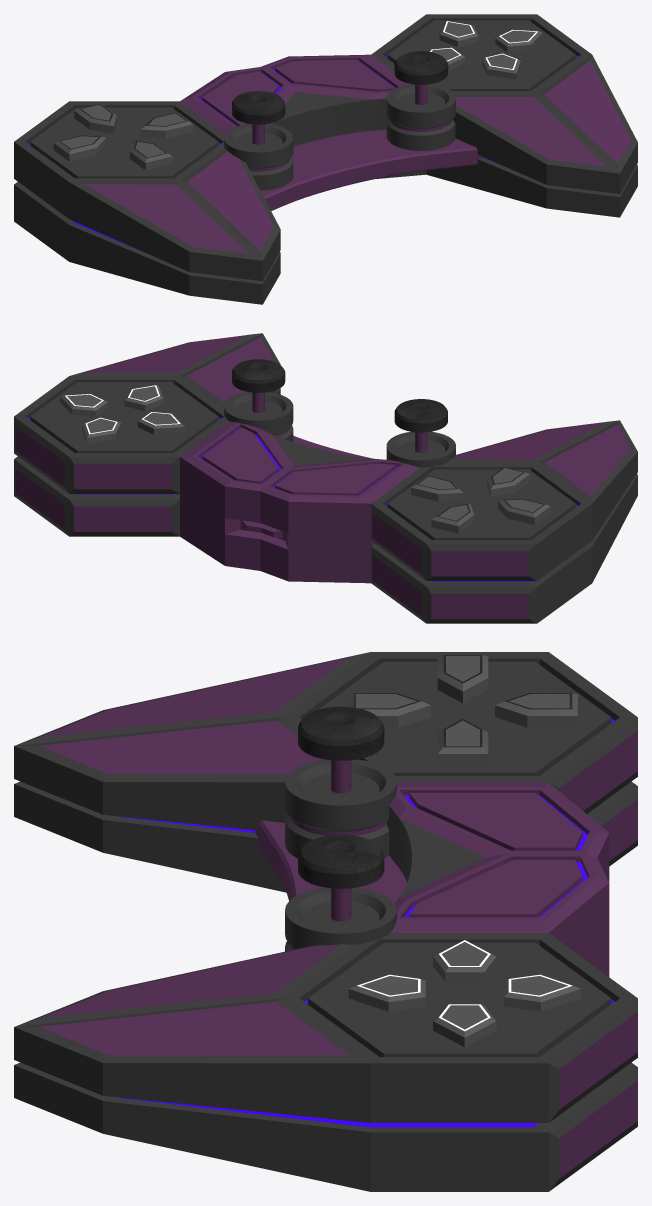
Rendered from low_poly_gamepad.glb.
The picture shows the model from 3 angles, top to bottom: view 1: azimuth 30°, elevation 25°; view 2: azimuth 150°, elevation 25°; view 3: azimuth 270°, elevation 25°; orthographic projection. The views are drawn at different scales.
Parts seen in each view (by area): view 1: Cylinder.001_1, Cube_0, Cube.002_4, Cylinder.002_3, Cube.001_2, Cylinder.003_5, Cylinder.004_6; view 2: Cylinder.001_1, Cube_0, Cylinder.002_3, Cube.001_2, Cylinder.003_5, Cylinder.004_6; view 3: Cylinder.001_1, Cube_0, Cylinder.002_3, Cylinder.003_5, Cube.001_2, Cylinder.004_6, Cube.002_4.
Boxes of the visible parts, left/top/right/bottom form: Cylinder.001_1: left=14, top=14, right=637, bottom=304; Cube_0: left=180, top=54, right=426, bottom=178; Cube.002_4: left=261, top=129, right=484, bottom=210; Cylinder.002_3: left=224, top=84, right=455, bottom=190; Cube.001_2: left=53, top=104, right=193, bottom=170; Cylinder.003_5: left=232, top=51, right=447, bottom=144; Cylinder.004_6: left=428, top=21, right=542, bottom=79; Cylinder.001_1: left=14, top=333, right=637, bottom=623; Cube_0: left=180, top=421, right=419, bottom=583; Cylinder.002_3: left=224, top=392, right=455, bottom=467; Cube.001_2: left=411, top=467, right=550, bottom=533; Cylinder.003_5: left=232, top=359, right=447, bottom=452; Cylinder.004_6: left=60, top=385, right=185, bottom=443; Cylinder.001_1: left=14, top=652, right=637, bottom=1191; Cube_0: left=387, top=782, right=609, bottom=976; Cylinder.002_3: left=285, top=759, right=396, bottom=951; Cylinder.003_5: left=298, top=706, right=384, bottom=921; Cube.001_2: left=347, top=655, right=577, bottom=765; Cylinder.004_6: left=348, top=940, right=580, bottom=1047; Cube.002_4: left=255, top=820, right=407, bottom=902.
Bounding box in the file's own units: 5.46 × 1.26 × 3.5.
Materials: 7 (2 with a texture image).
